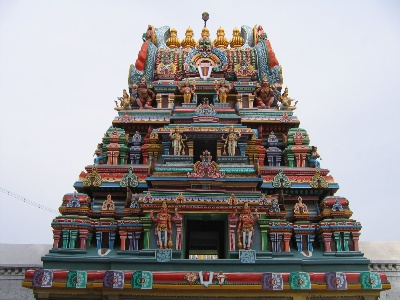gopura: (66, 16, 375, 266)
